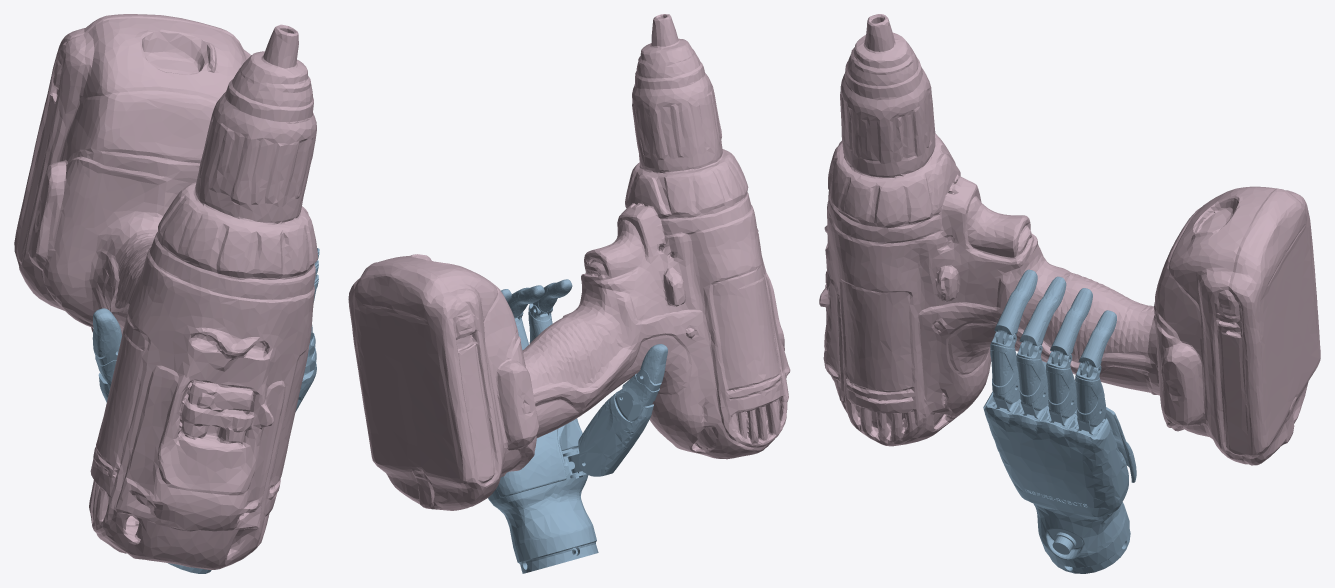
3 renders of one model, left to right at view 1: azimuth 30°, elevation 25°; view 2: azimuth 150°, elevation 25°; view 3: azimuth 270°, elevation 25°, orthographic. The views are drawn at different scales.
Parts seen in each view (by area): view 1: obj_mesh_grasp_90.obj, world; view 2: obj_mesh_grasp_90.obj, world; view 3: obj_mesh_grasp_90.obj, world.
Boxes of the visible parts, x1,y1,x2,y2 form: obj_mesh_grasp_90.obj: [14, 14, 317, 569]; world: [92, 248, 319, 573]; obj_mesh_grasp_90.obj: [348, 14, 790, 510]; world: [488, 279, 667, 573]; obj_mesh_grasp_90.obj: [819, 14, 1320, 465]; world: [983, 269, 1136, 573].
Bounding box in the file's own units: 0.2112 × 0.3608 × 0.3043.
